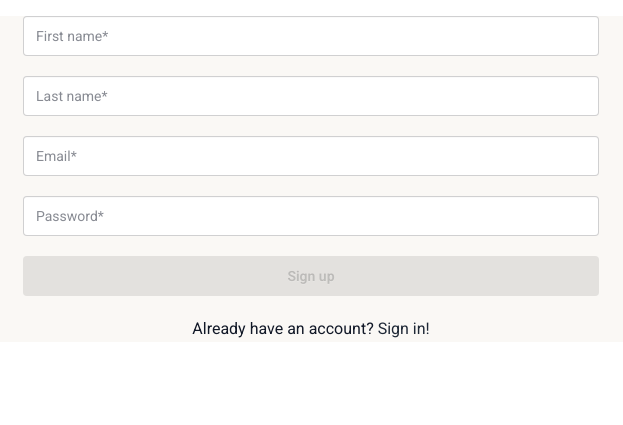
Test: SignUpForm › Test 3: Check a success message is shown after a successful registration.
Type "Alice" into the field with placeholder "First name*". click: coordinates (311, 36)
box: [23,16,599,56]
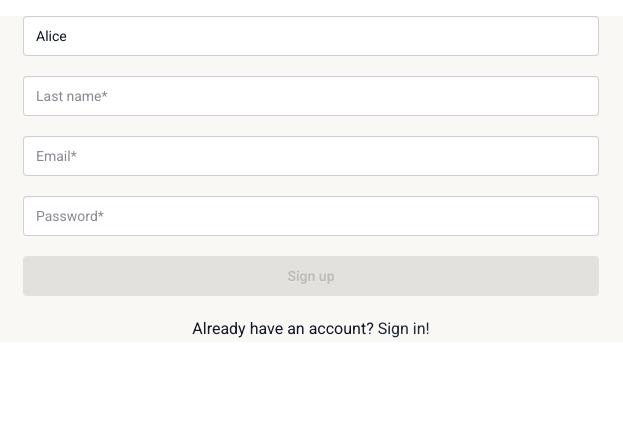
Type "Smith" into the field with placeholder "Last name*". click: coordinates (311, 96)
box: [23,76,599,116]
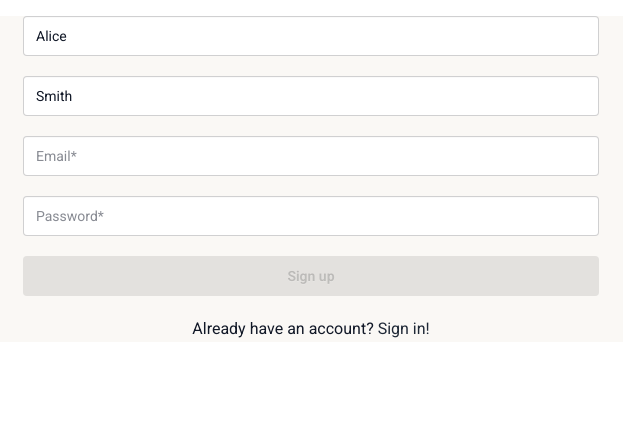
Type "alice@example.com" into the field with placeholder "Email*". click: coordinates (311, 156)
box: [23,136,599,176]
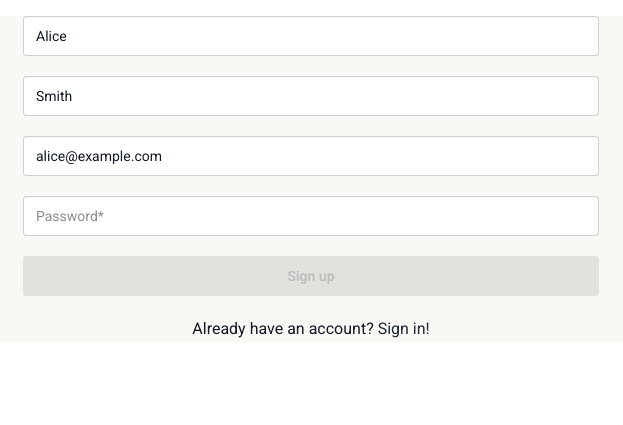
Type "password123" into the password field with placeholder "Password*". click: coordinates (311, 216)
box: [23,196,599,236]
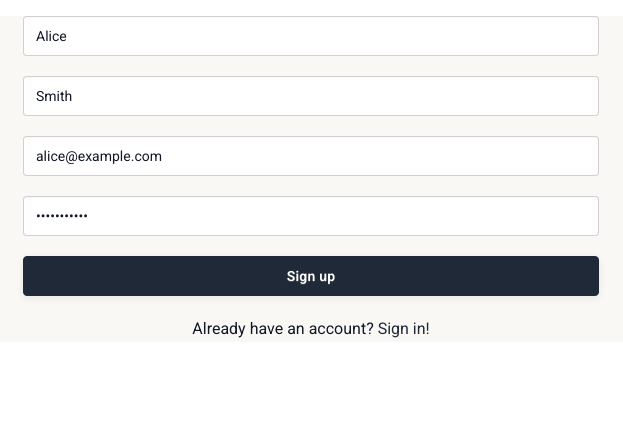
Click the button "Sign up". click: coordinates (311, 276)
box: [23,256,599,296]
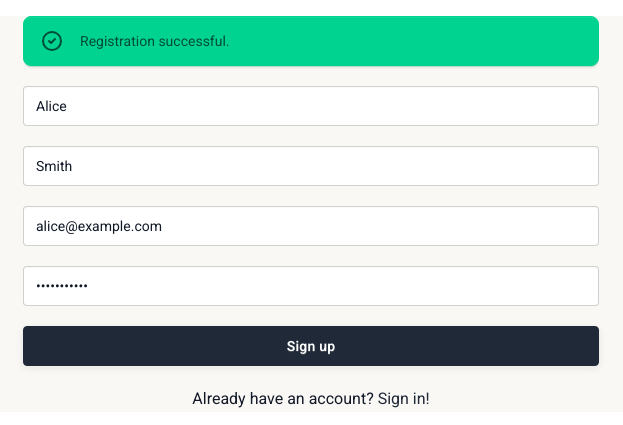
Now the text "Registration successful." is shown, box [80,31,230,51]
